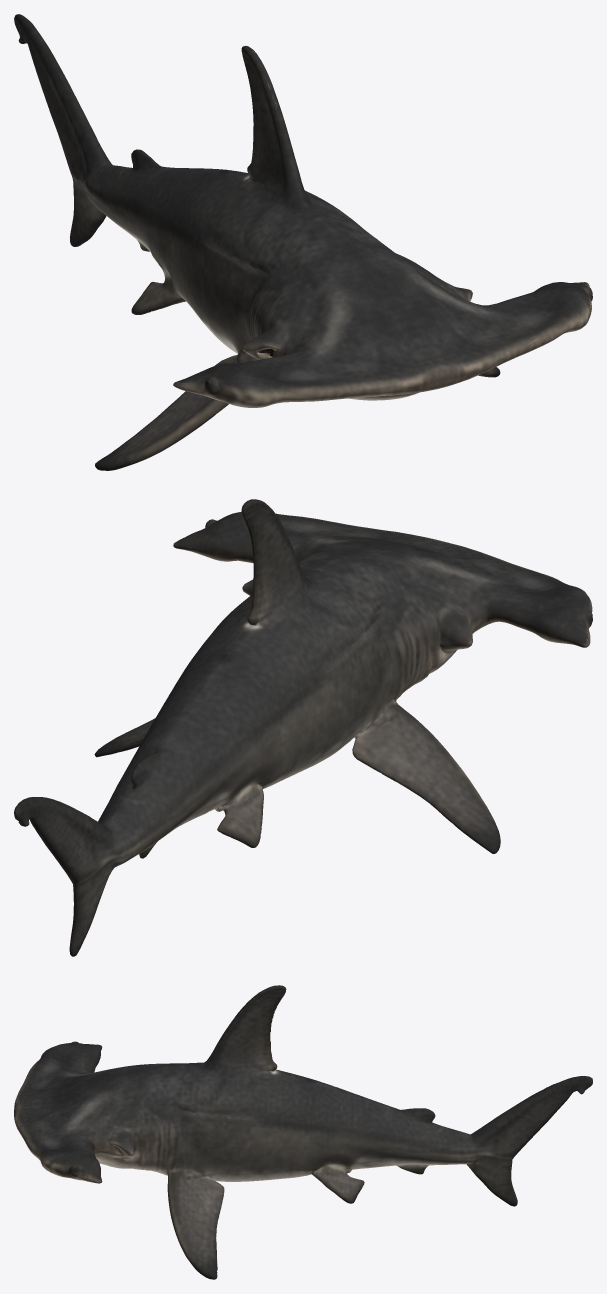
File: 14_hammerhead_shark.glb
3 views of the same model, one above another, from view 1: azimuth 30°, elevation 25°; view 2: azimuth 150°, elevation 25°; view 3: azimuth 270°, elevation 25° (orthographic). The views are drawn at different scales.
Visible parts, largest first — view 1: world; view 2: world; view 3: world.
Part boxes in pixels (box(x1,y1,x2,y2)): world: box(14, 14, 592, 470); world: box(14, 499, 592, 956); world: box(14, 985, 592, 1279).
Bounding box in the file's own units: 0.5594 × 0.4371 × 1.
1 material, 1 textured.
